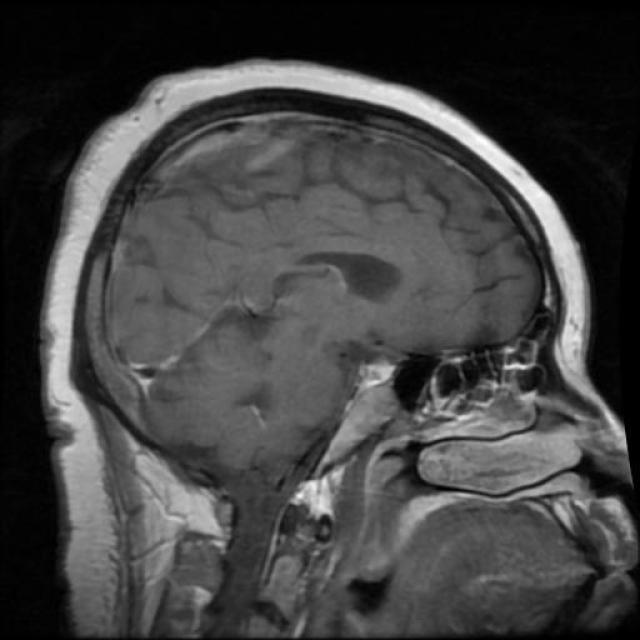pituitary: (324, 343, 407, 457)
